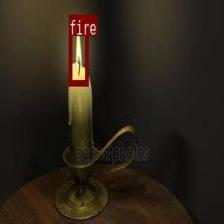fire: (68, 14, 88, 84)
